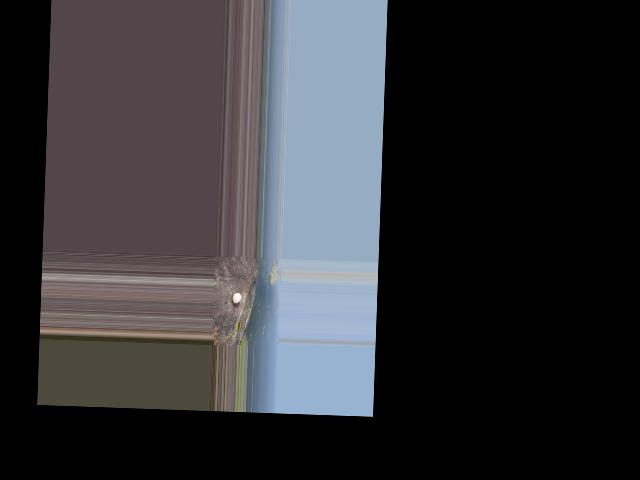egg: (232, 291, 241, 303)
